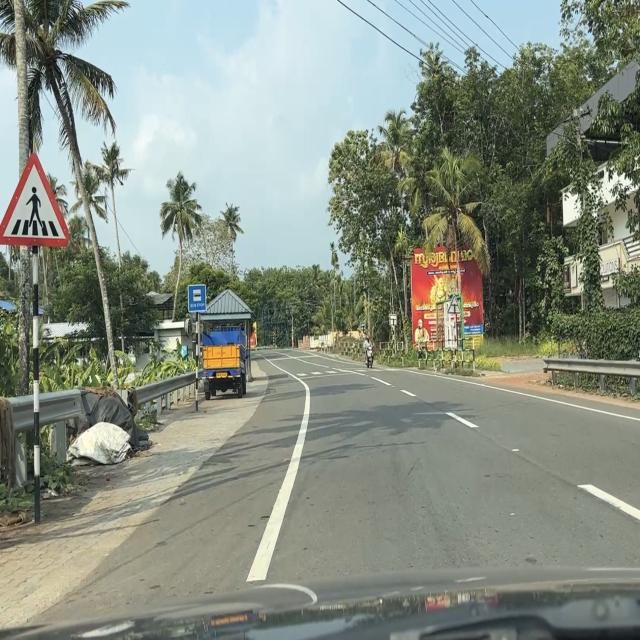INFORMATION: (187, 283, 207, 314)
PEDESTRIAN_CROSSING: (0, 152, 71, 248)
